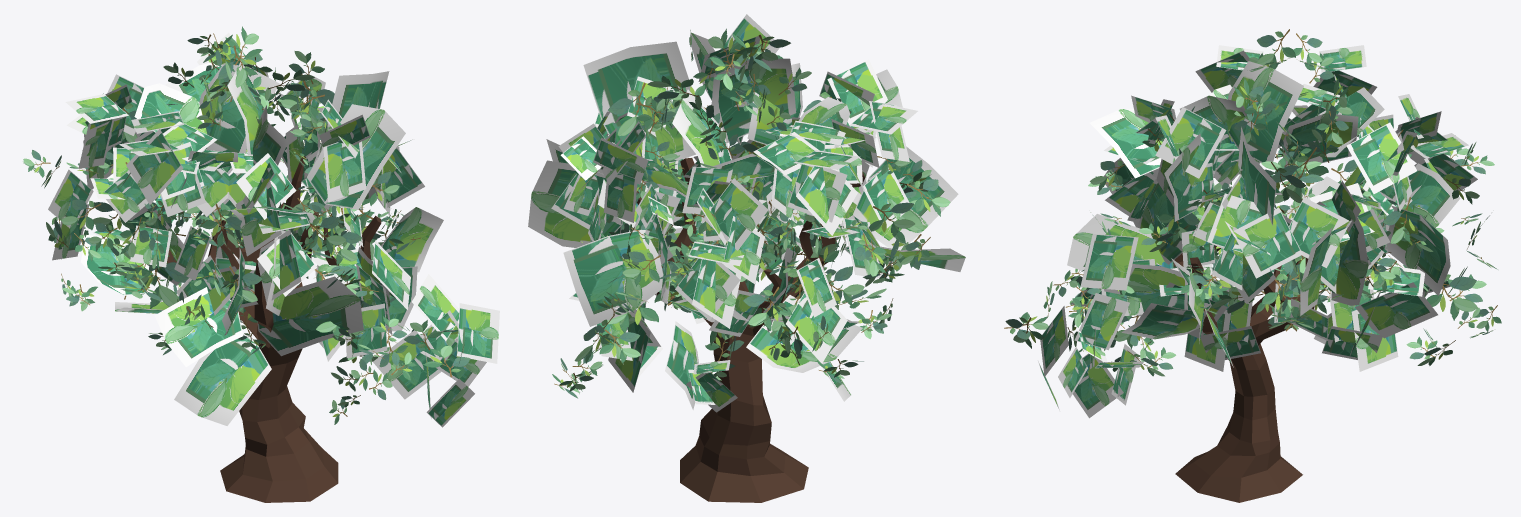
File: Tree_03_redone.fbx
3 views of the same model, side by side, from view 1: azimuth 30°, elevation 25°; view 2: azimuth 150°, elevation 25°; view 3: azimuth 270°, elevation 25° (orthographic). The views are drawn at different scales.
Parts seen in each view (by area): view 1: polySurface2059, pPlane48, polySurface2046; view 2: polySurface2059, pPlane48, polySurface2046; view 3: polySurface2059, pPlane48, polySurface2046.
Part boxes in pixels (x1,y1,x2,y2): polySurface2059: (23,26,499,427); pPlane48: (81,60,443,425); polySurface2046: (146,142,381,502); polySurface2059: (551,14,950,412); pPlane48: (528,32,965,409); polySurface2046: (636,158,865,502); polySurface2059: (1004,29,1501,418); pPlane48: (1067,61,1460,344); polySurface2046: (1173,229,1315,502).
Size of the model in its own units: 4.96 by 6.44 by 6.88.
